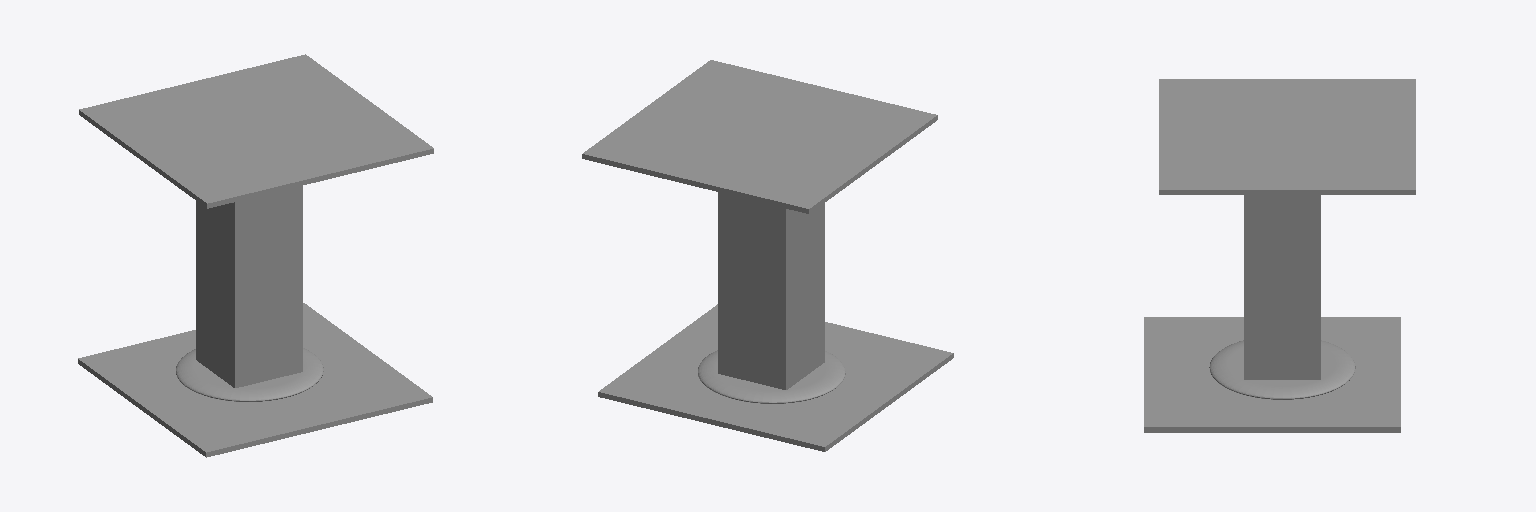
Rendered from Pillars.obj.
3 views of the same model, side by side, from view 1: azimuth 30°, elevation 25°; view 2: azimuth 150°, elevation 25°; view 3: azimuth 270°, elevation 25° (orthographic).
Visible parts, largest first — view 1: Column_box_top; view 2: Column_box_top; view 3: Column_box_top.
Boxes of the visible parts, box(x1,y1,x2,y2) form: Column_box_top: box(78, 54, 433, 457); Column_box_top: box(582, 60, 953, 451); Column_box_top: box(1144, 79, 1415, 432).
Size of the model in its own units: 1 by 1 by 1.